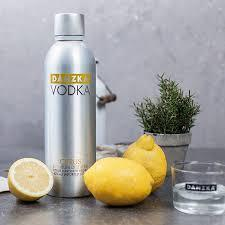lemon: (84, 157, 154, 205), (122, 134, 166, 193), (8, 158, 54, 202)
